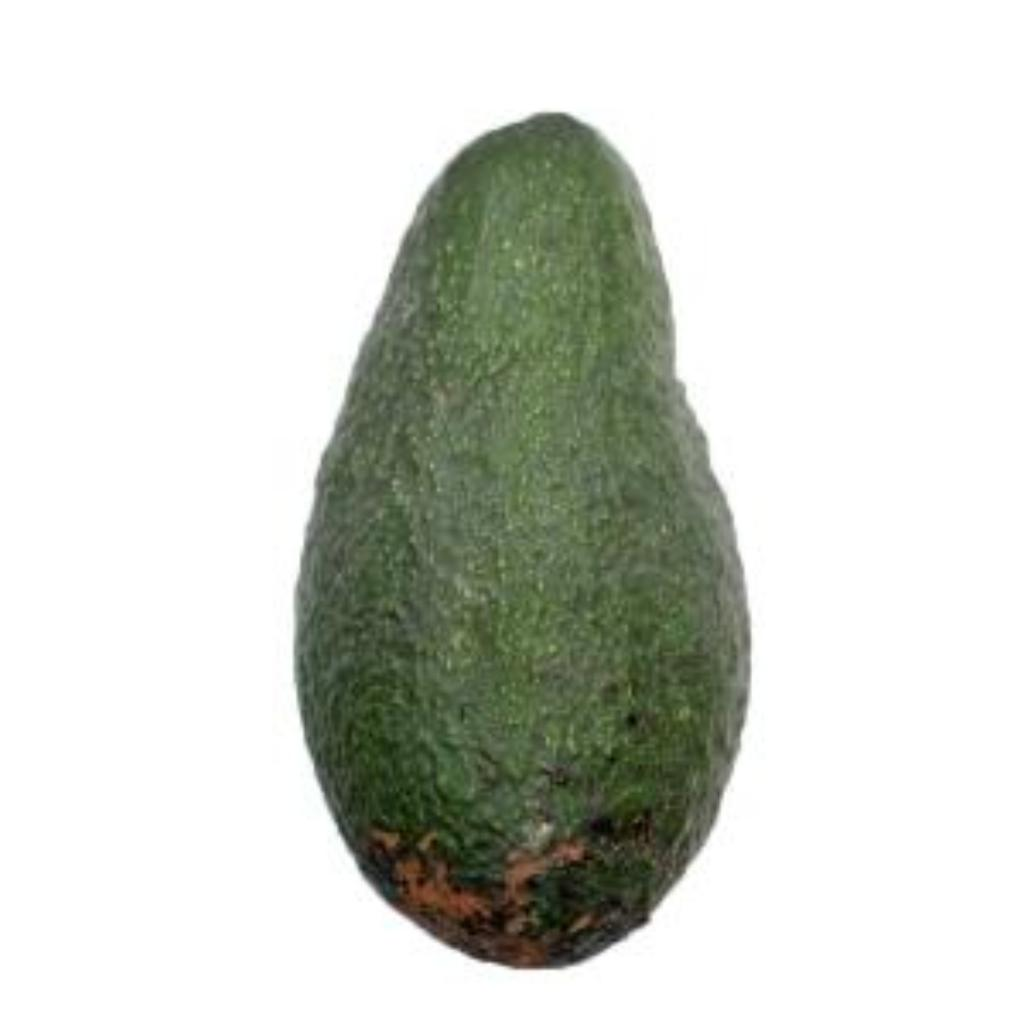cercospora_spot: (256, 100, 782, 976)
